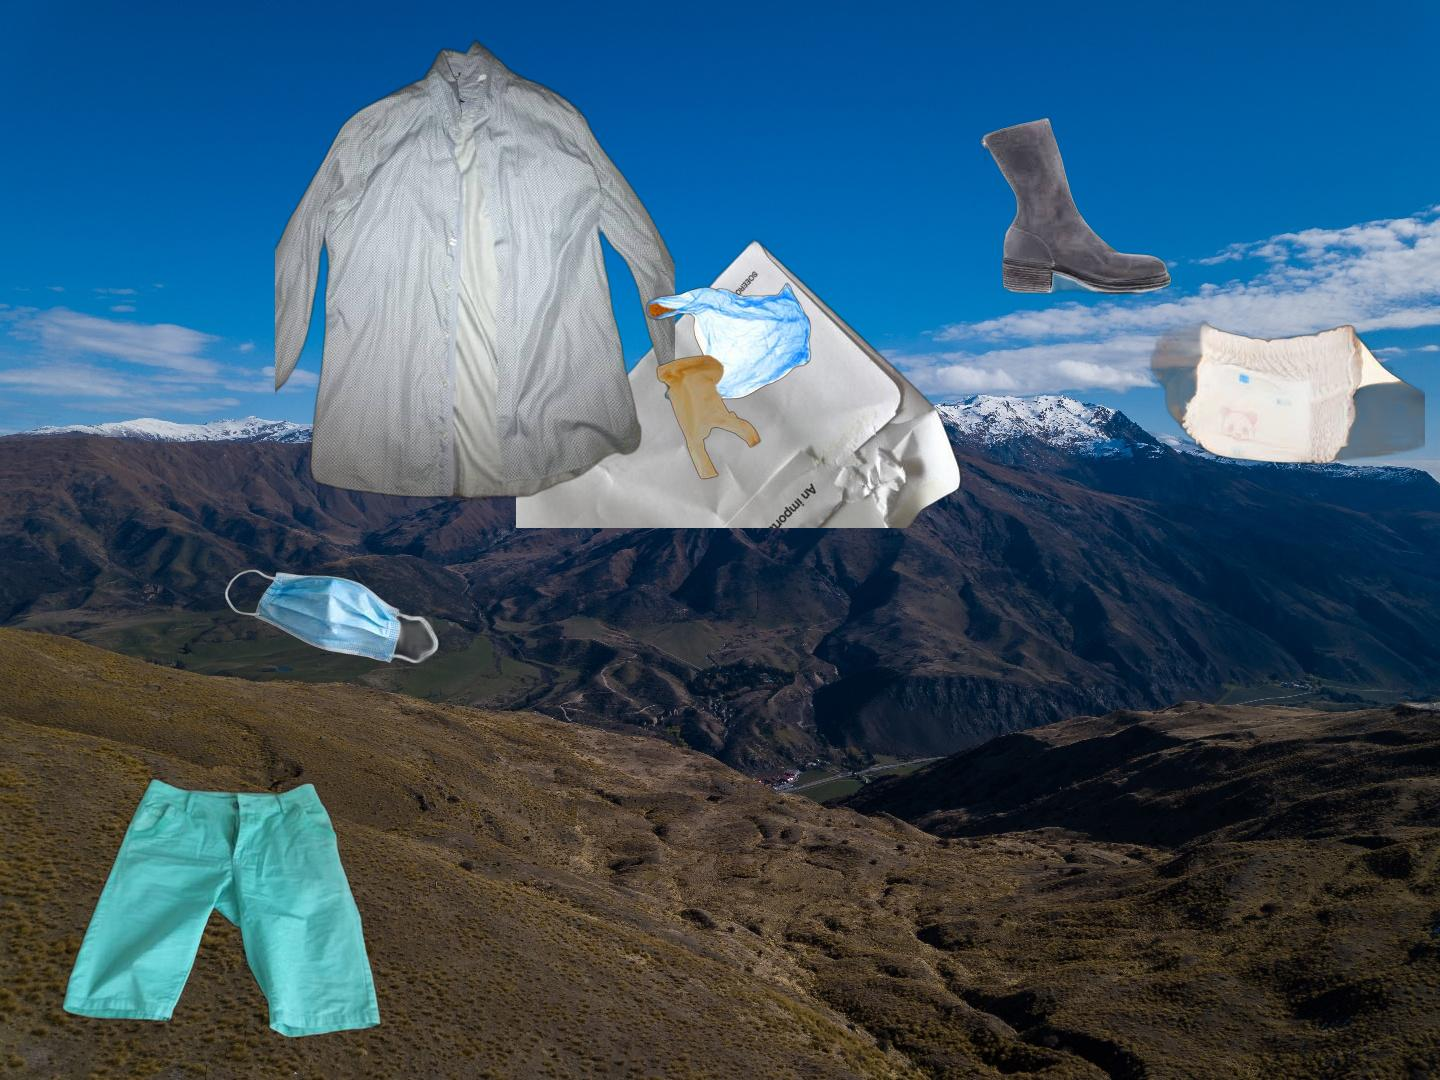clothes: (276, 36, 675, 508), (59, 775, 383, 1041)
paper: (516, 236, 966, 528)
plastic-bag: (644, 282, 812, 482)
shoes: (979, 115, 1174, 297)
trash: (1145, 294, 1425, 472), (222, 566, 443, 666)
